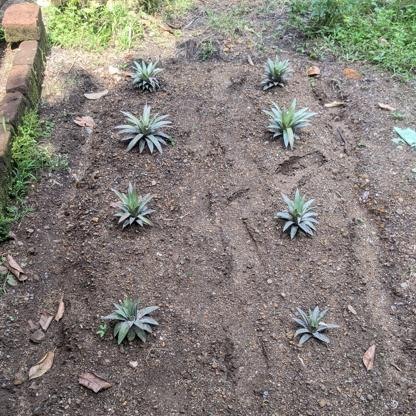pineapple: (99, 293, 160, 347), (115, 103, 175, 157), (259, 99, 319, 151), (275, 185, 322, 243), (108, 182, 158, 234), (289, 305, 342, 353), (260, 55, 296, 95), (128, 62, 166, 94)
